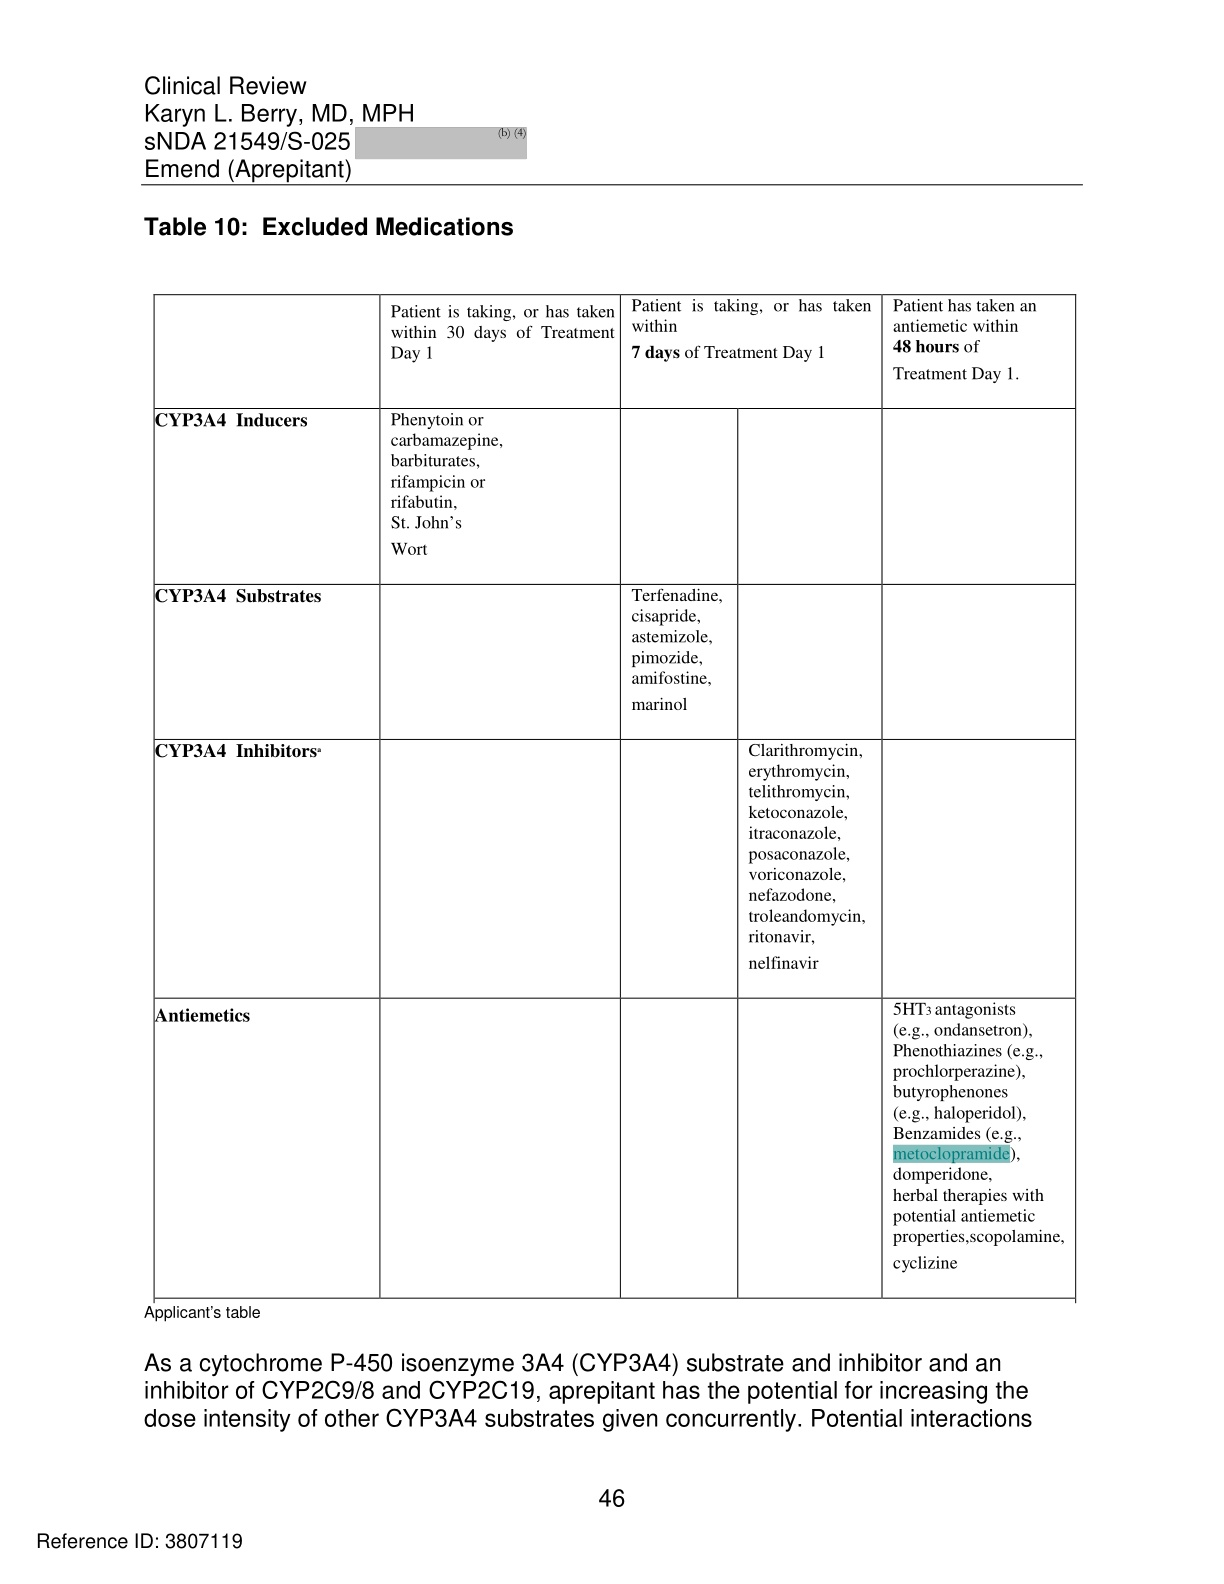merged_cells: (153, 293, 1077, 1301)
